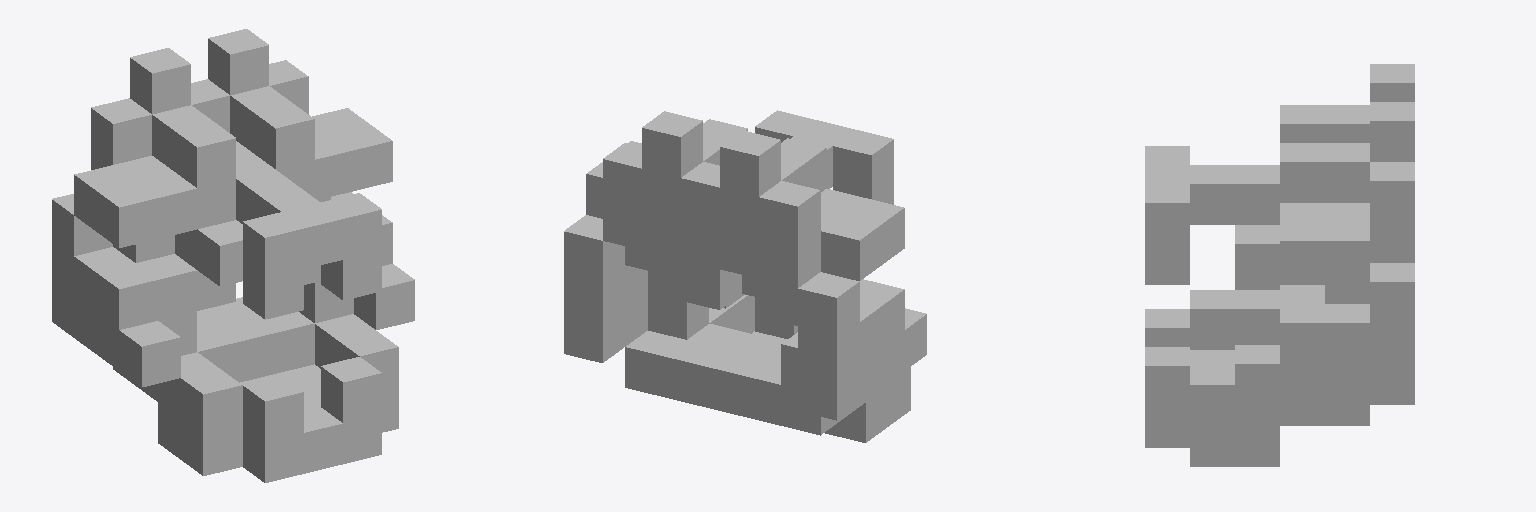
Rendered from godchilla.obj.
3 views of the same model, side by side, from view 1: azimuth 30°, elevation 25°; view 2: azimuth 150°, elevation 25°; view 3: azimuth 270°, elevation 25° (orthographic).
Visible parts, largest first — view 1: Object2; view 2: Object2; view 3: Object2.
Boxes of the visible parts, x1=… form: Object2: x1=52, y1=29, x2=414, y2=482; Object2: x1=564, y1=110, x2=926, y2=442; Object2: x1=1145, y1=64, x2=1414, y2=466.
Size of the model in its own units: 10.5 by 12 by 9.